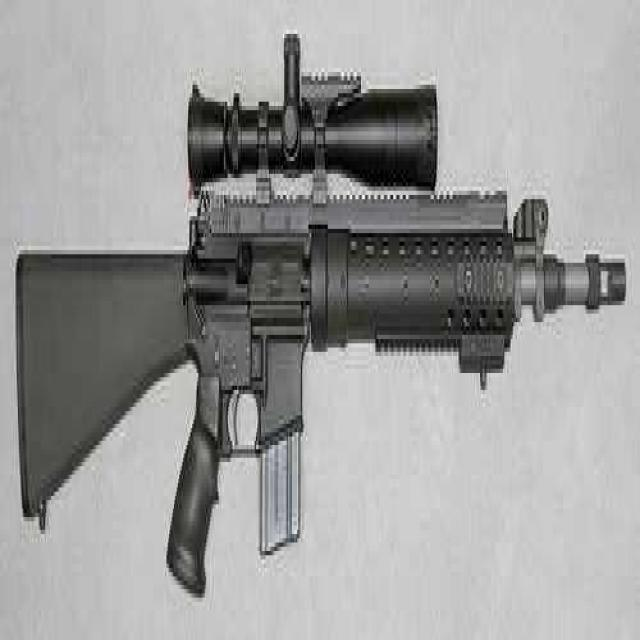weapon: (11, 55, 634, 581)
